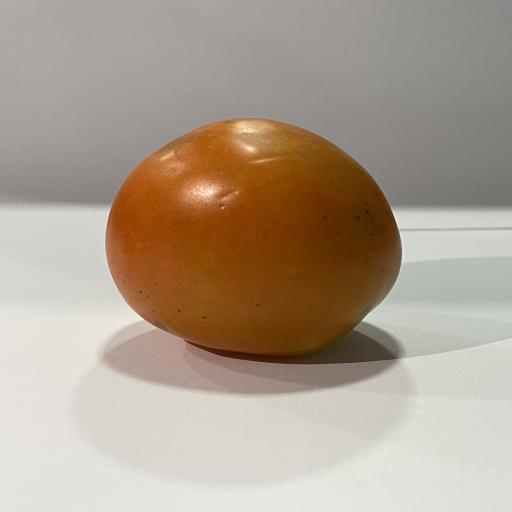unripe: (106, 118, 401, 356)
